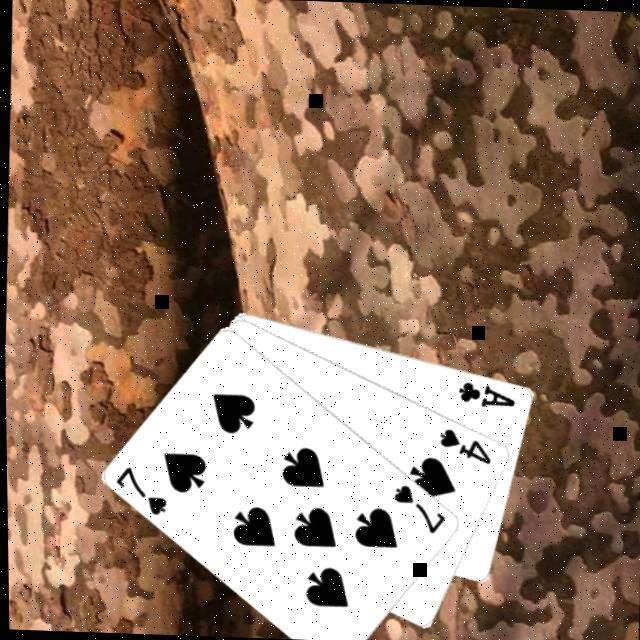4S: (434, 426, 493, 468)
7S: (389, 482, 450, 538), (110, 463, 171, 519)
AC: (455, 378, 518, 410)
